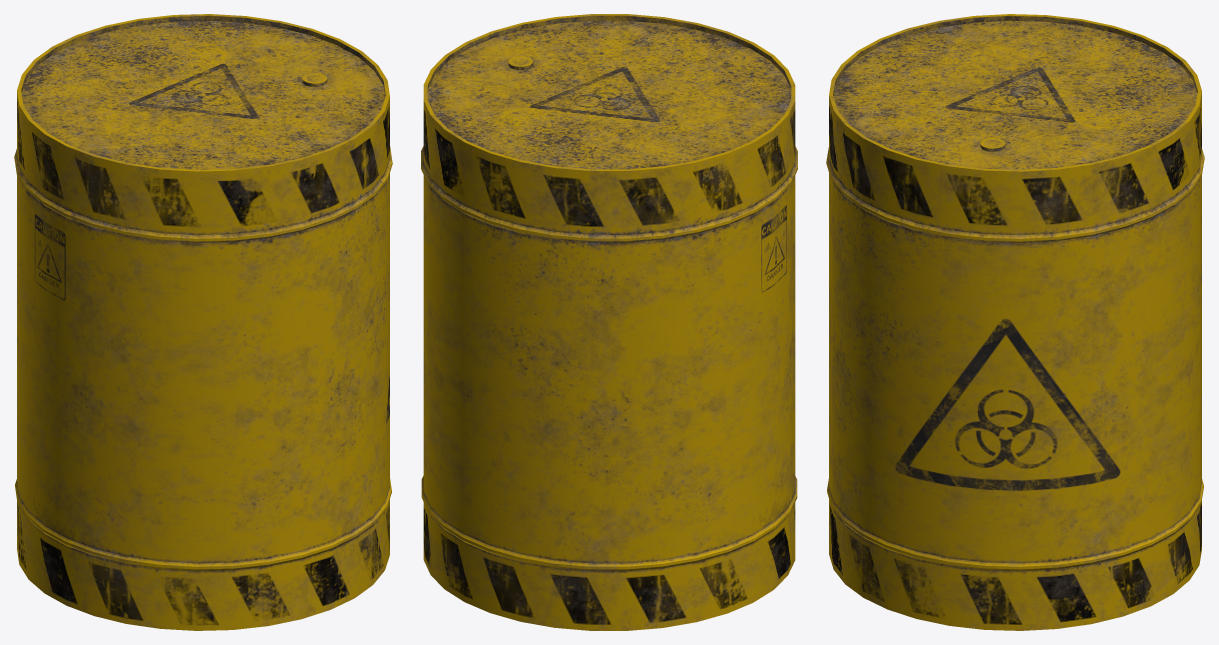
File: industrial_barrel.glb
3 renders of one model, left to right at view 1: azimuth 30°, elevation 25°; view 2: azimuth 150°, elevation 25°; view 3: azimuth 270°, elevation 25°, orthographic.
Visible parts, largest first — view 1: Cylinder.003; view 2: Cylinder.003; view 3: Cylinder.003.
Boxes of the visible parts, x1,y1,x2,y2 form: Cylinder.003: (14,14,392,630); Cylinder.003: (421,14,797,630); Cylinder.003: (826,14,1204,630).
Bounding box in the file's own units: 1.56 × 2.09 × 1.56.
Materials: 1 (1 with a texture image).
